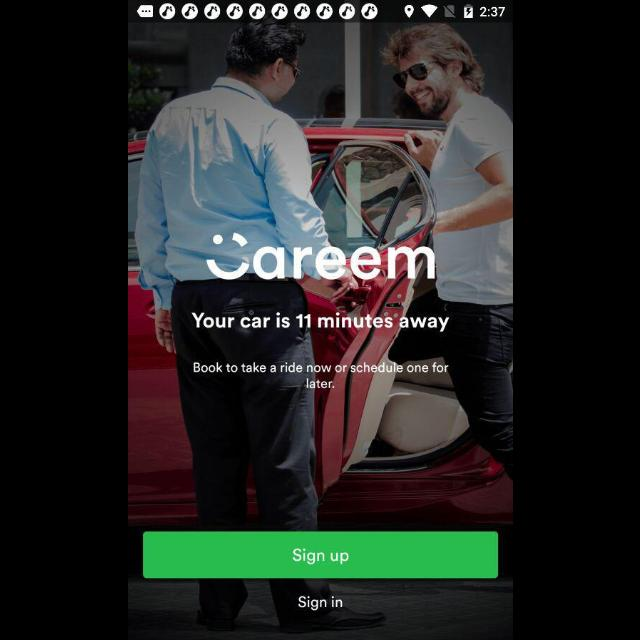backgroundimage: (128, 24, 512, 640)
image: (205, 231, 438, 281)
text: (192, 362, 448, 391), (191, 311, 449, 333), (297, 594, 343, 612)
textbutton: (143, 532, 497, 578)
uppertaskbar: (128, 1, 512, 23)
